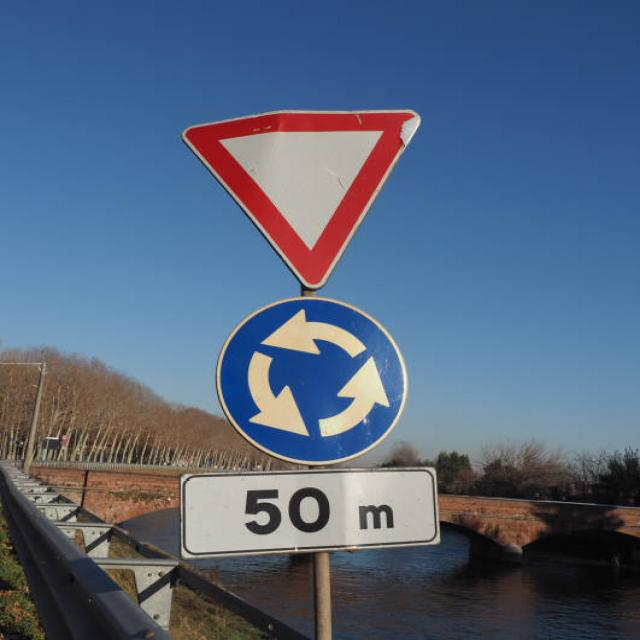round_about: (215, 296, 413, 464)
